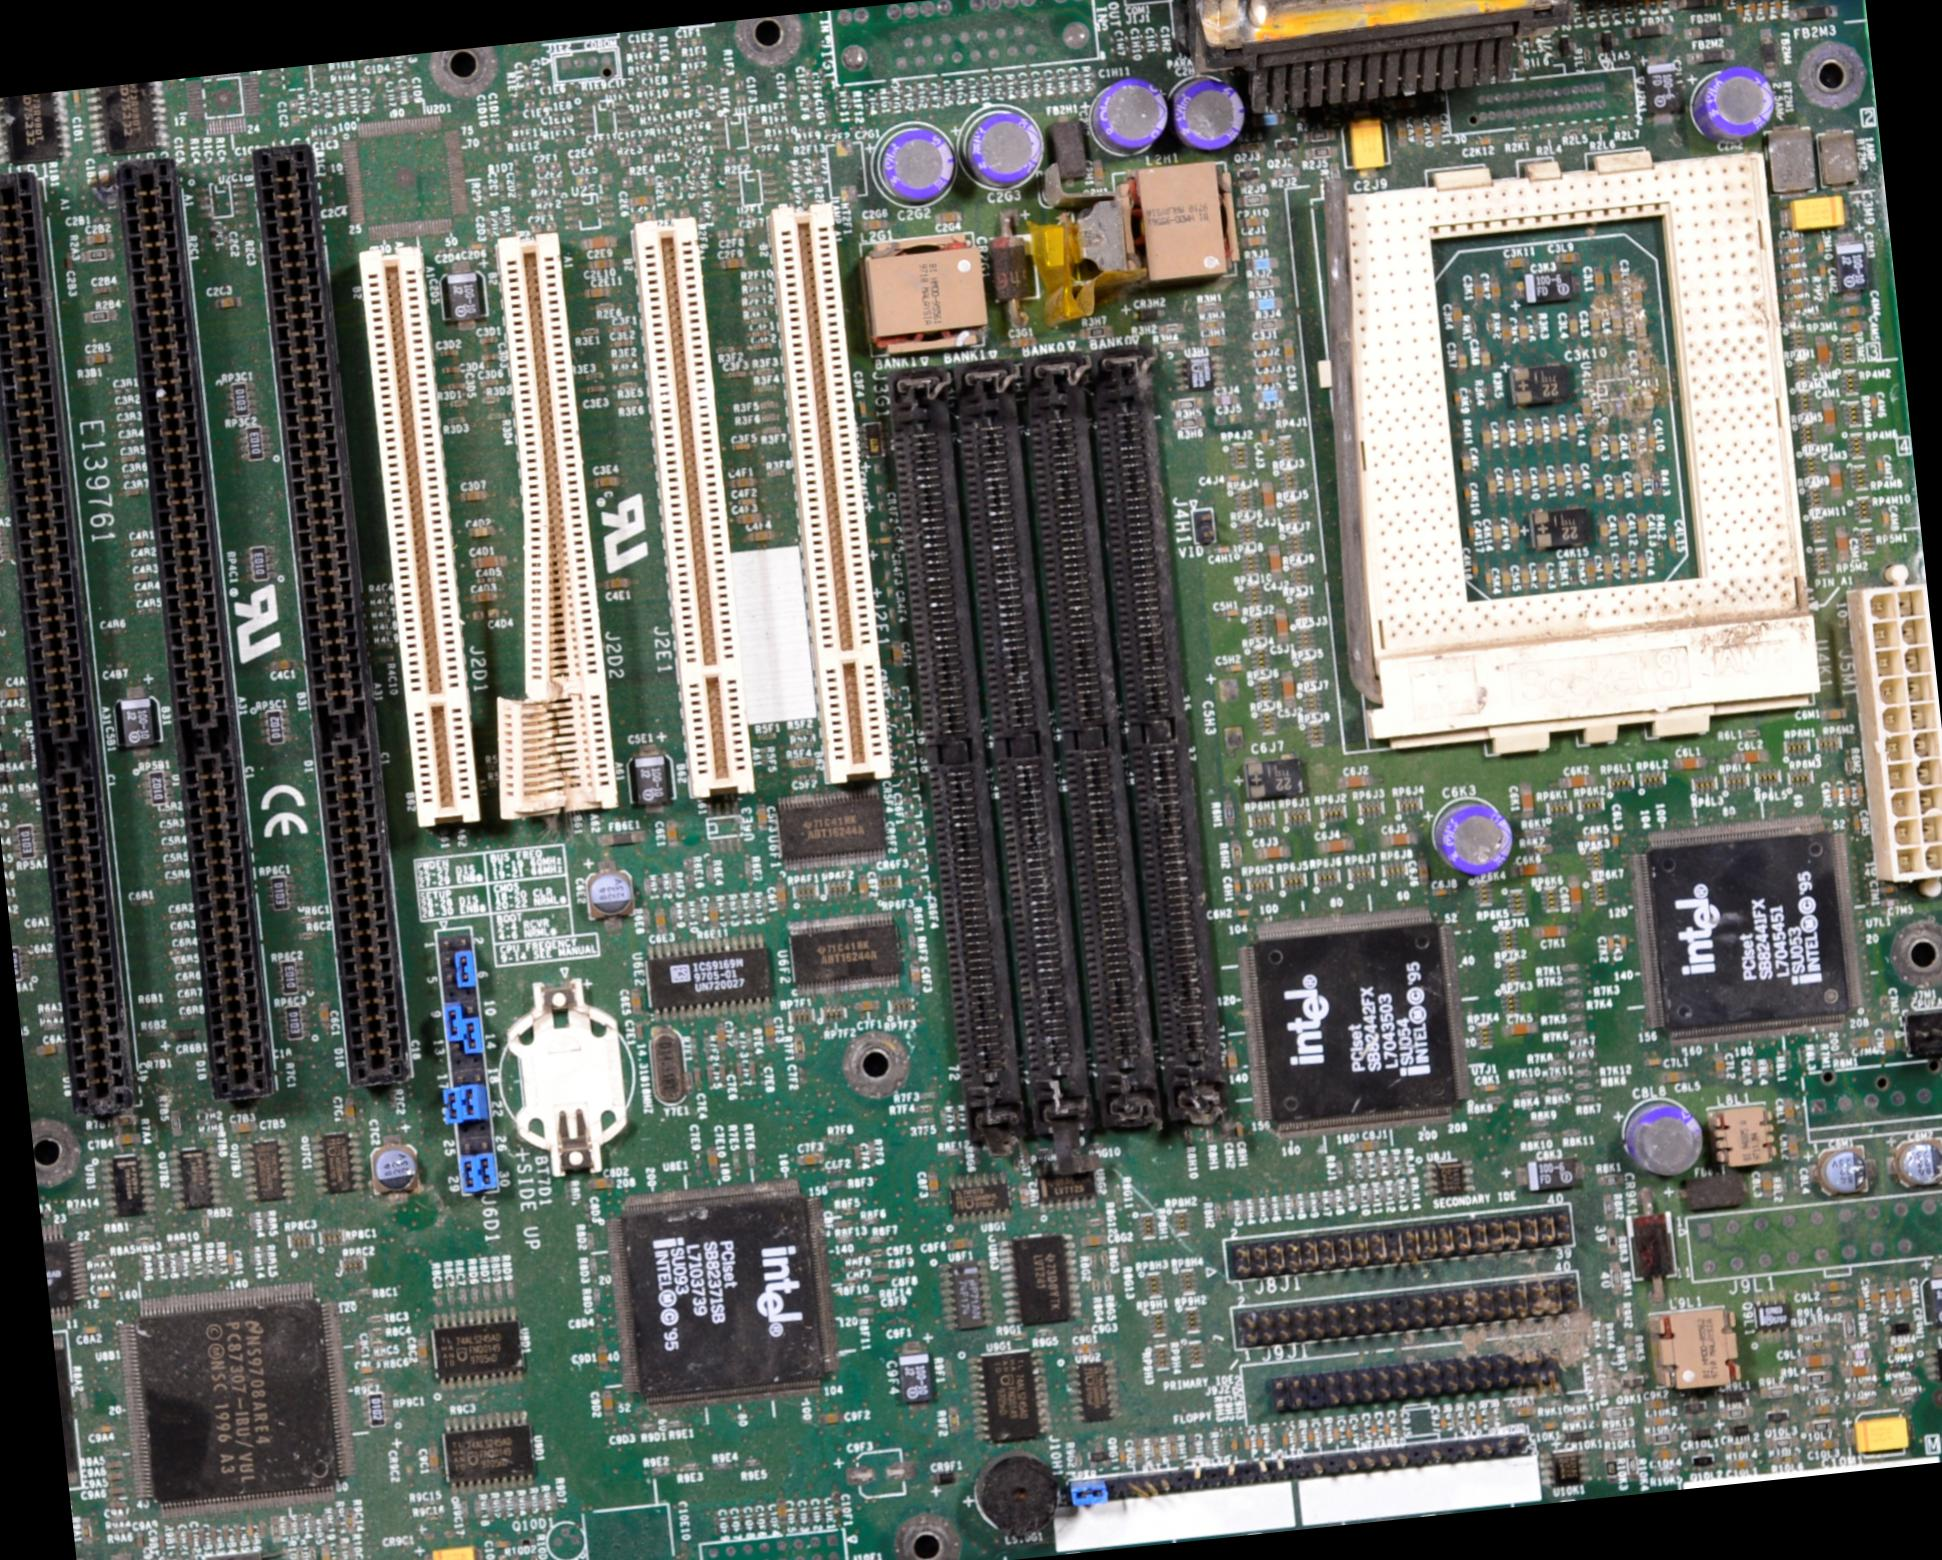Capacitor Jumper: (1336, 772, 1377, 791), (1315, 837, 1358, 855), (1254, 844, 1293, 863), (578, 236, 619, 253), (1280, 672, 1299, 708), (1827, 462, 1846, 498), (1821, 396, 1839, 436), (1834, 525, 1851, 564), (1566, 874, 1582, 914), (1078, 1229, 1108, 1250), (1813, 334, 1831, 369), (470, 554, 508, 570), (1261, 481, 1277, 519), (1733, 748, 1770, 764), (1512, 863, 1549, 879), (1557, 774, 1597, 788), (1380, 831, 1415, 847), (1503, 1022, 1538, 1038), (1519, 782, 1534, 815), (1533, 923, 1566, 939), (1799, 1353, 1832, 1369), (457, 489, 490, 505), (591, 474, 624, 490), (1816, 1278, 1846, 1296), (1673, 756, 1705, 772), (603, 575, 635, 591), (946, 1235, 974, 1253), (466, 592, 501, 606), (718, 256, 748, 272), (1883, 1278, 1897, 1312), (664, 818, 680, 847), (1840, 317, 1869, 333), (747, 527, 775, 543), (928, 1165, 941, 1200), (1275, 606, 1288, 642), (774, 880, 788, 911), (796, 1152, 826, 1167), (729, 474, 759, 489), (1460, 447, 1474, 478), (653, 907, 669, 934), (115, 1132, 142, 1148), (587, 1176, 614, 1192), (817, 1410, 844, 1426), (468, 524, 495, 540), (1834, 304, 1867, 317), (1269, 543, 1281, 576), (1819, 707, 1848, 721), (707, 899, 721, 928), (909, 961, 923, 990), (1660, 1070, 1689, 1084), (597, 1344, 611, 1372), (83, 232, 111, 247), (934, 210, 963, 224), (855, 998, 880, 1014), (1414, 119, 1426, 151), (1283, 336, 1296, 368), (231, 1121, 258, 1135), (1786, 1132, 1800, 1159), (629, 193, 656, 207), (1394, 121, 1409, 148), (861, 218, 888, 232), (215, 296, 242, 310), (1243, 234, 1270, 248), (318, 1003, 331, 1033), (344, 1095, 357, 1125), (1899, 1278, 1912, 1308), (1644, 1414, 1675, 1426), (1429, 116, 1442, 146), (1507, 519, 1520, 549), (755, 802, 767, 831), (35, 1043, 64, 1055), (707, 1146, 719, 1175), (1713, 1052, 1726, 1081), (1351, 1140, 1380, 1152), (1783, 1097, 1796, 1125), (1761, 1172, 1773, 1200), (602, 1388, 614, 1417), (734, 511, 762, 524), (0, 686, 25, 700), (1726, 1458, 1757, 1469), (584, 259, 616, 271), (1848, 1035, 1875, 1047), (1869, 1283, 1882, 1310), (1643, 1398, 1670, 1410), (1810, 1402, 1837, 1415), (1651, 1447, 1678, 1460), (1092, 158, 1105, 185), (583, 287, 610, 299), (1776, 237, 1804, 250), (269, 659, 296, 672), (1520, 564, 1533, 591), (891, 642, 904, 669), (1547, 417, 1562, 441), (83, 353, 113, 365), (1539, 1415, 1558, 1433), (427, 1447, 439, 1472), (1511, 1406, 1536, 1418), (1248, 337, 1273, 350), (1253, 355, 1278, 368), (1632, 473, 1644, 498), (1584, 559, 1597, 584), (1499, 568, 1512, 594), (856, 876, 871, 898), (764, 1017, 775, 1046), (715, 1024, 726, 1052), (1073, 1340, 1097, 1353), (1240, 215, 1264, 228), (1555, 252, 1579, 264), (1472, 280, 1485, 304), (1536, 468, 1549, 492), (92, 1423, 119, 1434), (1843, 1364, 1870, 1375), (1603, 556, 1614, 583), (1536, 562, 1547, 589), (1507, 256, 1528, 271), (630, 989, 641, 1014), (1883, 1030, 1896, 1052), (1778, 253, 1804, 264), (1570, 310, 1581, 336), (1499, 318, 1511, 344), (1253, 372, 1278, 384), (1456, 350, 1469, 372), (1498, 423, 1511, 446), (1514, 420, 1525, 446), (1590, 436, 1601, 462), (1614, 474, 1625, 500), (1593, 478, 1605, 503), (1617, 517, 1630, 540), (92, 1289, 116, 1301), (417, 1339, 428, 1363), (1816, 1439, 1840, 1450), (89, 285, 113, 296), (1490, 277, 1501, 301), (1009, 337, 1033, 349), (1781, 267, 1805, 279), (1517, 318, 1528, 342), (729, 441, 753, 452), (1492, 521, 1503, 544), (1619, 554, 1630, 578), (1476, 134, 1496, 146), (439, 347, 460, 360), (441, 363, 462, 376), (1635, 516, 1648, 536), (1429, 887, 1452, 898), (444, 380, 466, 392), (1452, 307, 1463, 330), (1781, 282, 1804, 293), (1531, 419, 1542, 441), (1520, 471, 1531, 493), (1874, 457, 1885, 479), (1878, 508, 1889, 530), (1243, 1429, 1253, 1455), (479, 334, 500, 345), (1818, 261, 1829, 282), (1784, 299, 1808, 309), (735, 497, 759, 506), (1646, 431, 1655, 455), (1554, 466, 1563, 490), (1479, 350, 1492, 368), (1232, 877, 1243, 896), (1619, 933, 1630, 952), (1856, 1293, 1867, 1312), (479, 352, 498, 363), (121, 487, 140, 498), (127, 540, 146, 551), (1504, 471, 1514, 493), (1487, 473, 1496, 495), (1571, 466, 1582, 486), (72, 89, 83, 108), (1600, 521, 1609, 543), (1636, 554, 1646, 576), (1851, 813, 1861, 834), (635, 1020, 645, 1041), (355, 1366, 376, 1375), (1748, 0, 1757, 21), (1305, 1425, 1315, 1445), (479, 377, 500, 387), (1816, 237, 1826, 258), (118, 454, 138, 463), (858, 400, 868, 420), (131, 573, 151, 583), (1609, 438, 1619, 458), (872, 536, 893, 546), (1468, 522, 1477, 543), (1667, 533, 1676, 554), (1609, 833, 1620, 850), (1761, 0, 1772, 18), (1856, 780, 1864, 804), (1234, 909, 1253, 918), (1480, 1082, 1499, 1092), (1735, 0, 1745, 19), (320, 1544, 333, 1558), (493, 1539, 513, 1549), (118, 436, 137, 446), (80, 1326, 102, 1334), (119, 471, 142, 479), (1259, 428, 1270, 444), (1880, 885, 1897, 895), (1643, 1057, 1660, 1067), (1369, 1422, 1379, 1439), (1343, 1425, 1353, 1442), (1226, 662, 1243, 672), (1439, 1412, 1447, 1433), (1843, 782, 1851, 801), (1605, 936, 1614, 952), (226, 1251, 234, 1270), (466, 242, 485, 250), (1773, 0, 1781, 18), (1474, 1409, 1482, 1426), (1332, 1425, 1340, 1442), (1471, 562, 1479, 579), (1224, 608, 1238, 618), (1256, 1434, 1264, 1450), (1227, 473, 1243, 481), (1215, 546, 1230, 554), (1831, 785, 1837, 804), (1584, 833, 1598, 840), (1117, 1450, 1125, 1464), (1870, 395, 1877, 411), (1383, 1422, 1390, 1436), (1281, 1434, 1288, 1449)
Resistor Jumper: (1624, 1449, 1641, 1480), (1840, 1312, 1856, 1344), (1761, 1385, 1792, 1401), (1600, 1404, 1632, 1420), (1611, 1262, 1625, 1297), (1601, 1428, 1635, 1442), (1802, 1371, 1832, 1385), (1601, 1450, 1616, 1480), (1601, 1192, 1614, 1219), (81, 1517, 92, 1547), (1230, 840, 1243, 866), (947, 1406, 960, 1431), (1886, 1344, 1912, 1356), (1223, 801, 1234, 828), (1606, 1230, 1617, 1258), (344, 1504, 355, 1531)
